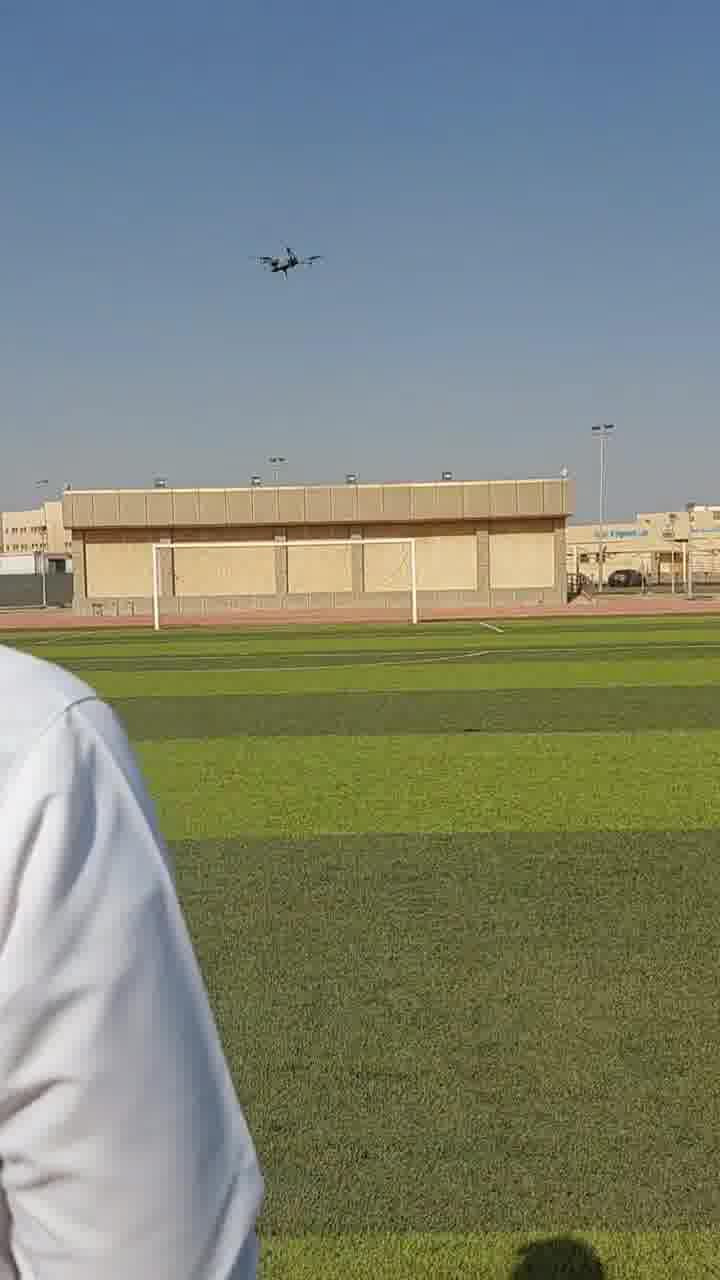drone: (244, 231, 322, 279)
